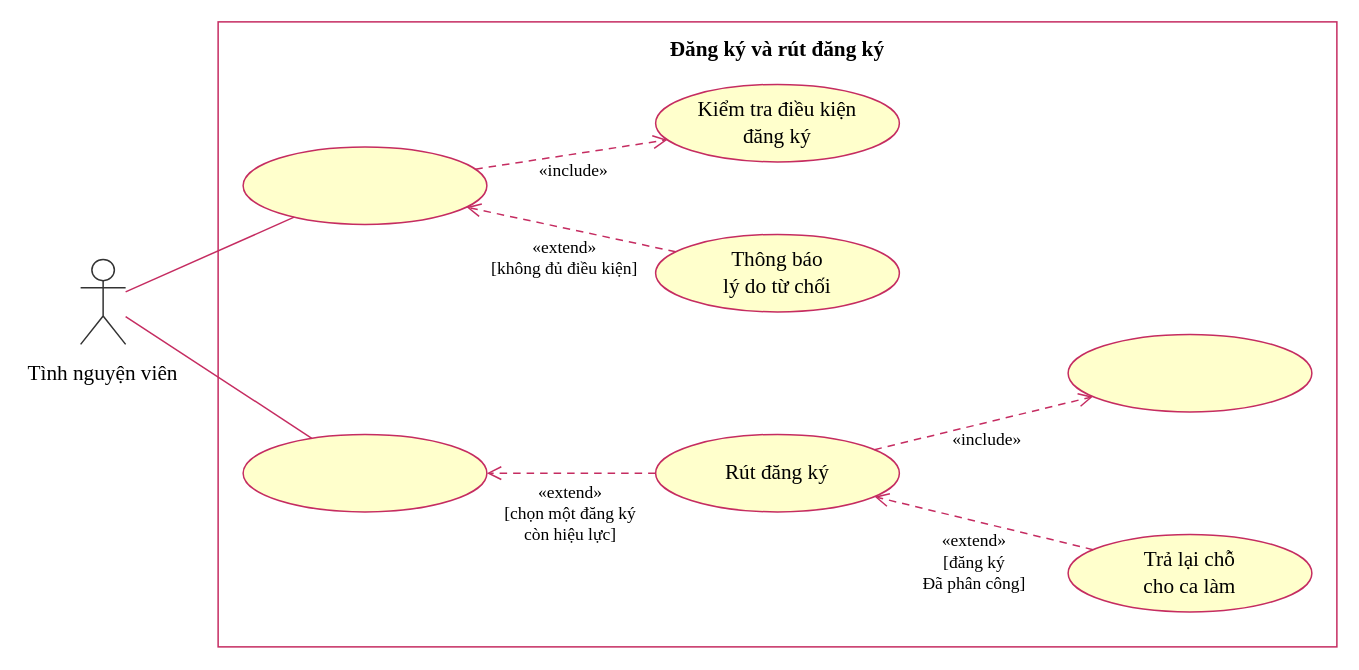
The diagram is 1359 pixels wide and 670 high, and some of its shapes have lost their labels. The box of each missing label's shape, as (x1, y1, x2, y2) in pixels:
Gửi đăng ký: (242, 146, 487, 225)
Kiểm tra điều kiện rút đăng ký: (1067, 333, 1312, 412)
Xem đăng ký của mình: (242, 433, 487, 512)
